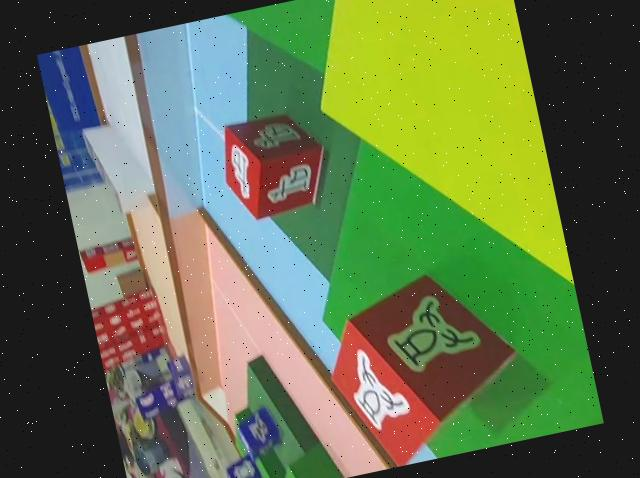R2 Real: (310, 257, 537, 478), (211, 102, 337, 227)
